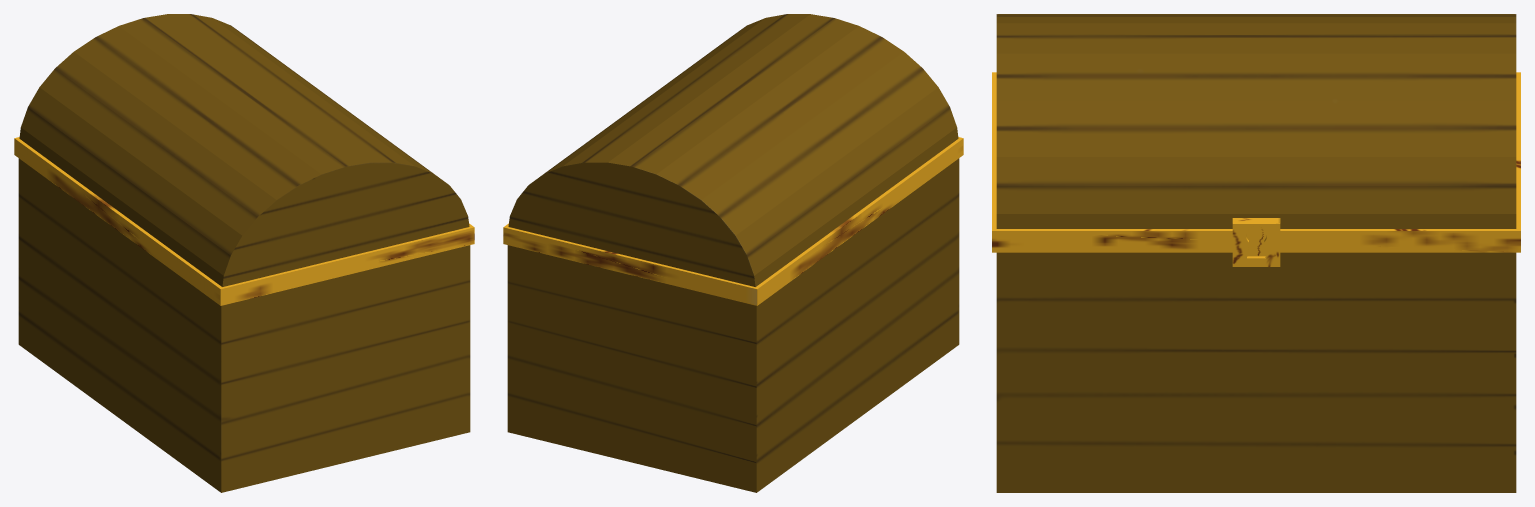
Rendered from ChestModel.glb.
3 renders of one model, left to right at view 1: azimuth 30°, elevation 25°; view 2: azimuth 150°, elevation 25°; view 3: azimuth 270°, elevation 25°, orthographic. The views are drawn at different scales.
Parts seen in each view (by area): view 1: ChestBody, ChestLid, Cube; view 2: ChestBody, ChestLid, Cube; view 3: ChestBody, ChestLid, Cube, ChestLock.
Boxes of the visible parts, x1,y1,x2,y2 form: ChestBody: (18, 158, 470, 492); ChestLid: (19, 14, 469, 286); Cube: (14, 137, 474, 305); ChestBody: (507, 158, 959, 492); ChestLid: (508, 14, 958, 286); Cube: (503, 137, 963, 305); ChestBody: (996, 252, 1516, 492); ChestLid: (996, 14, 1516, 228); Cube: (992, 72, 1520, 252); ChestLock: (1232, 218, 1280, 266).
Size of the model in its own units: 2.75 by 3 by 3.79.
4 materials, 4 textured.
